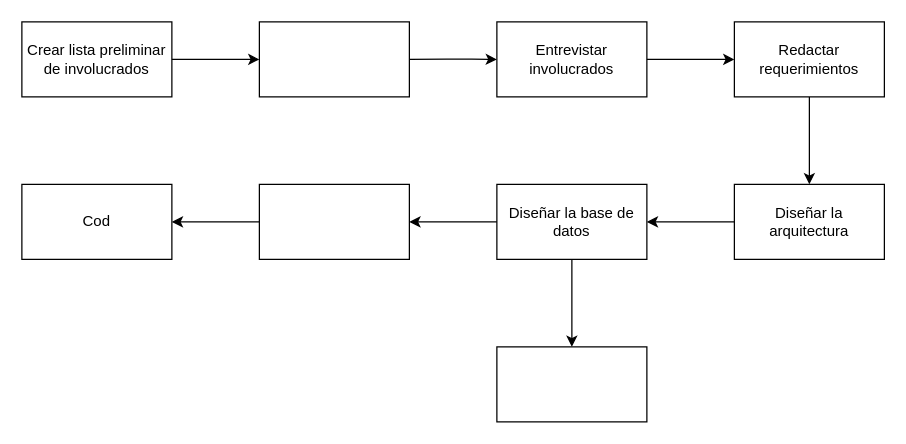
Some shapes in this 906 by 444 pixel diagram are drawn without their labels. The shapes that lost their labels are listed below. From the top down, each one's centre as x and y in pixels, then its label:
At point 333,59: "Aprobar lista preliminar de involucrados".
At point 333,221: "Diseñar estructura lógica del código".
At point 571,384: "Diseñar el flujo de UX/UI".
